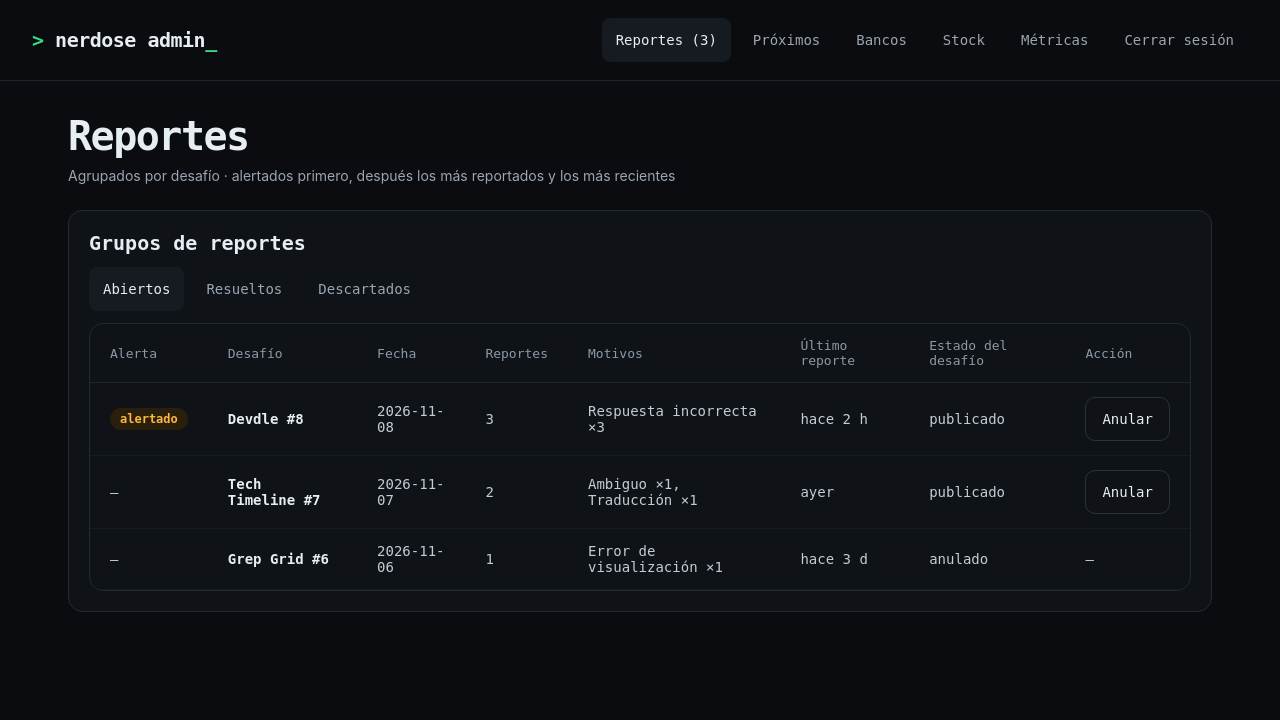
it: modal de anulación (O-01) › 422 invalid_culprit deja reintentar (TS-57)
Click the button "Devdle #8" at (266, 419), box top-left (228, 411), bottom-right (304, 427)
(page scrolled)
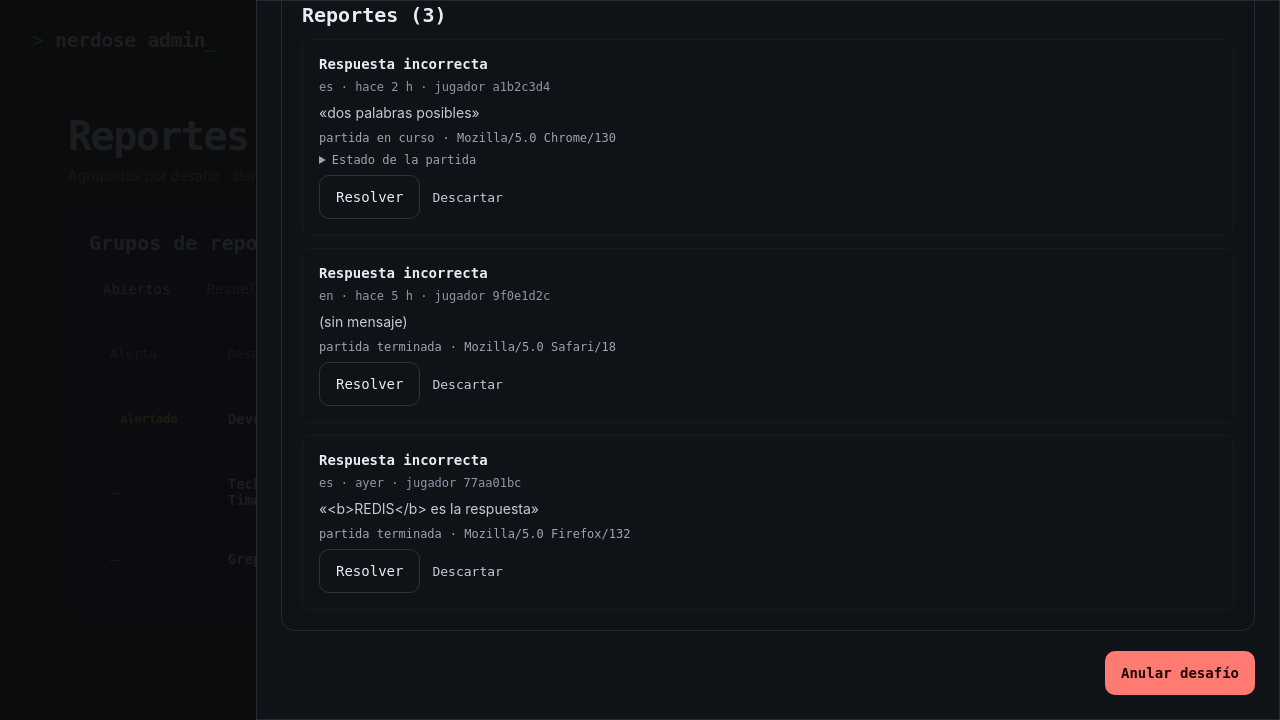
Click the button "Anular desafío" at (1180, 673), box top-left (1105, 651), bottom-right (1255, 695)
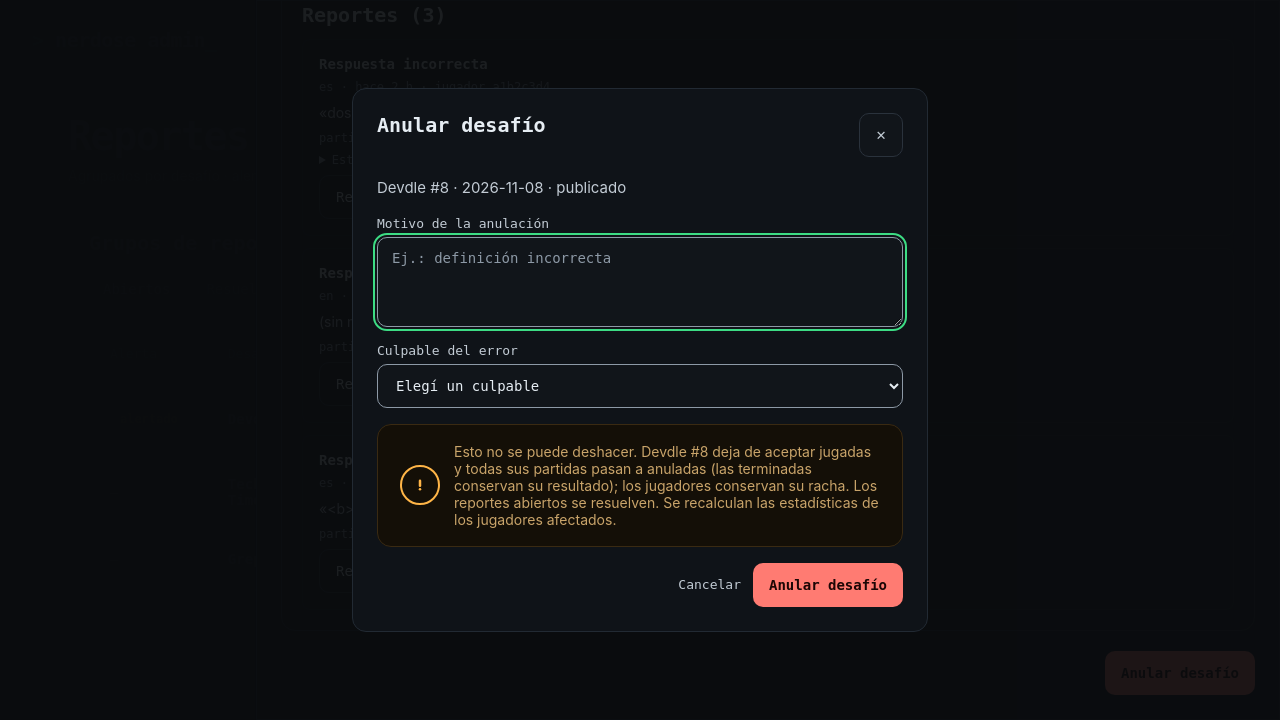
Type "motivo" into the text box labelled "Motivo de la anulación" at (640, 282), box top-left (377, 237), bottom-right (903, 327)
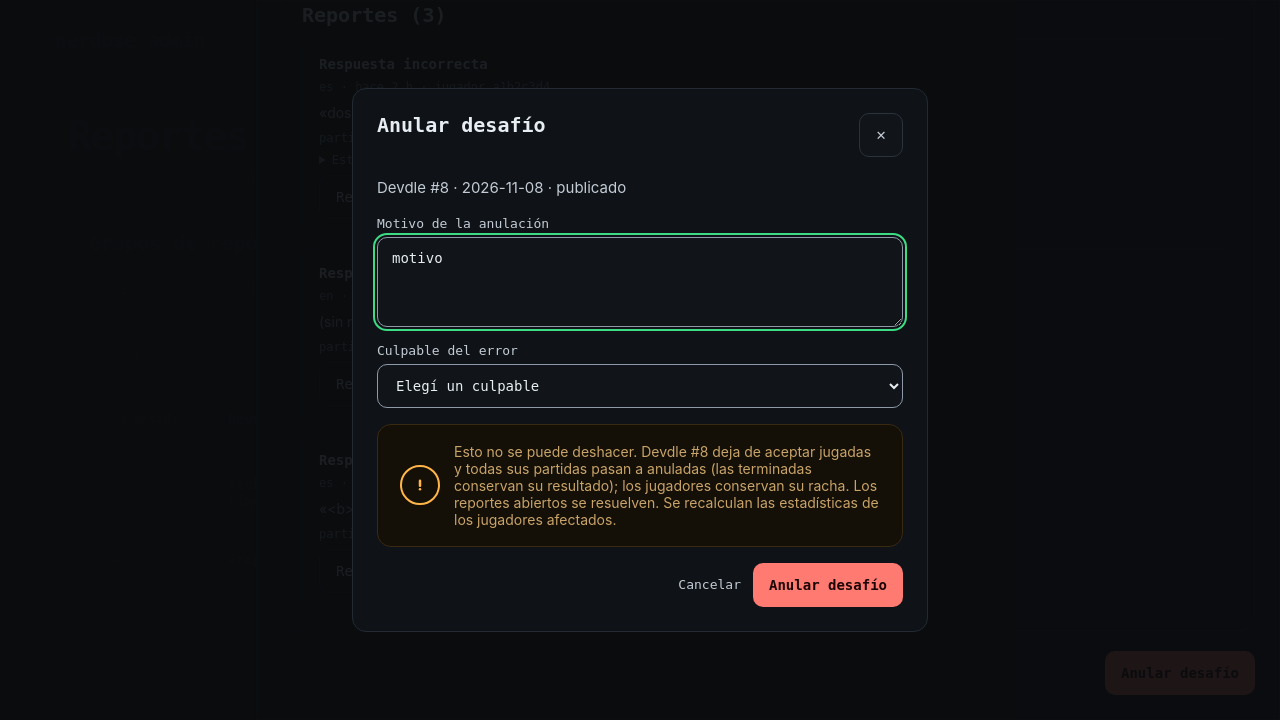
Select "Término · REDIS" in the dropdown labelled "Culpable del error" at (640, 386), box top-left (377, 364), bottom-right (903, 408)
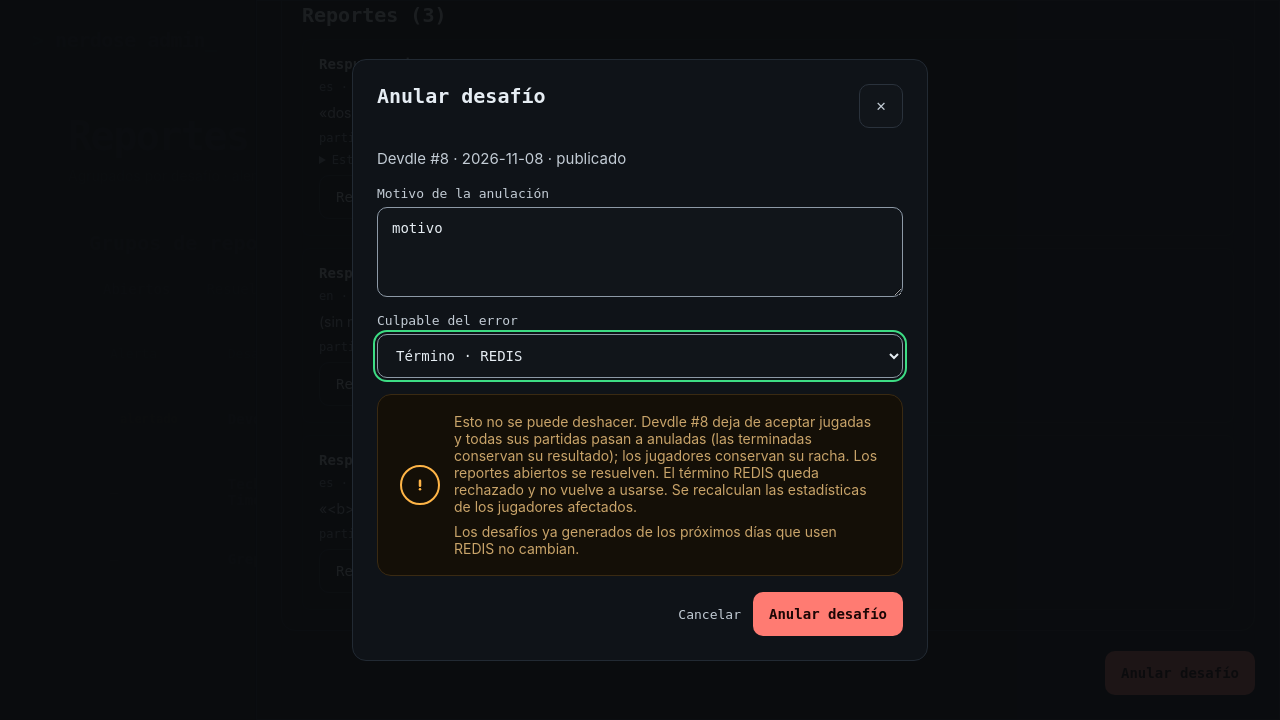
Click the button "Anular desafío" at (828, 614), box top-left (753, 592), bottom-right (903, 636)
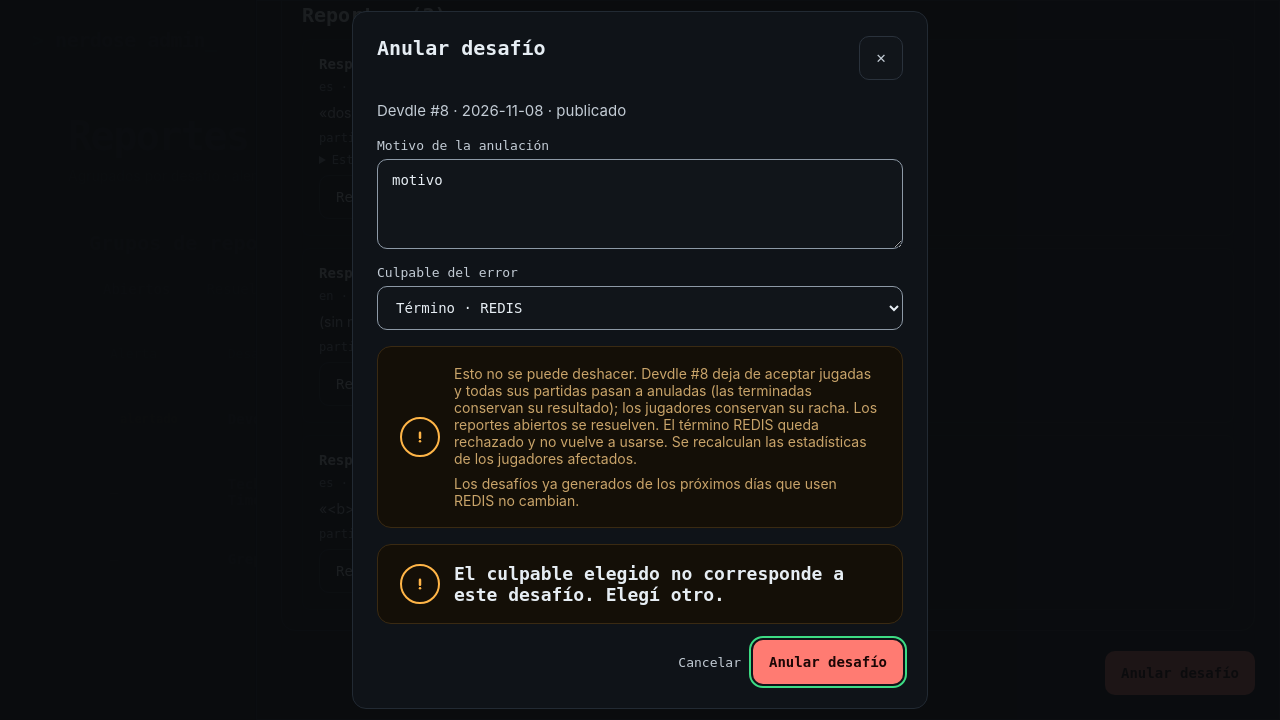
Check: the message reads "El culpable elegido no corresponde a este desafío. Elegí otro.", box top-left (454, 563), bottom-right (844, 605)
